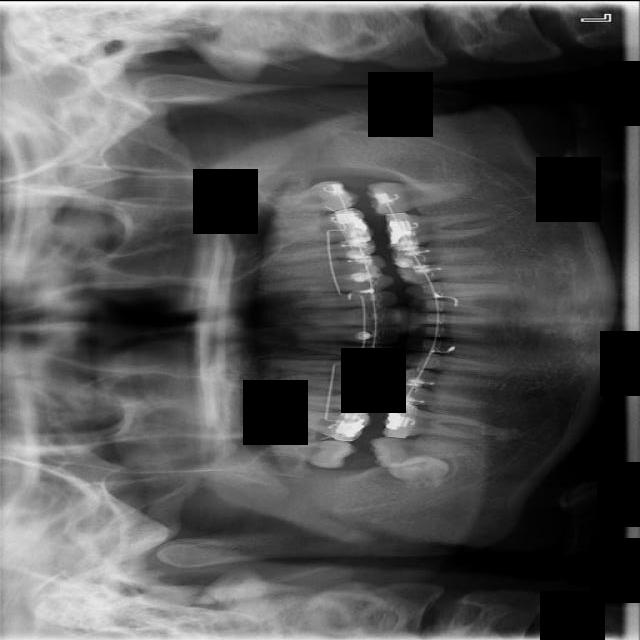52: (383, 206, 432, 250), (322, 206, 373, 246), (317, 410, 371, 441), (381, 402, 428, 435)
73: (608, 7, 617, 18)
BioHorizons Implant: (247, 179, 358, 214)
Blue Sky Bio Implant: (363, 174, 471, 215)
Caries: (259, 439, 355, 467)
Implant: (368, 436, 476, 468)
Keystone Dental Implant: (384, 451, 451, 492)
